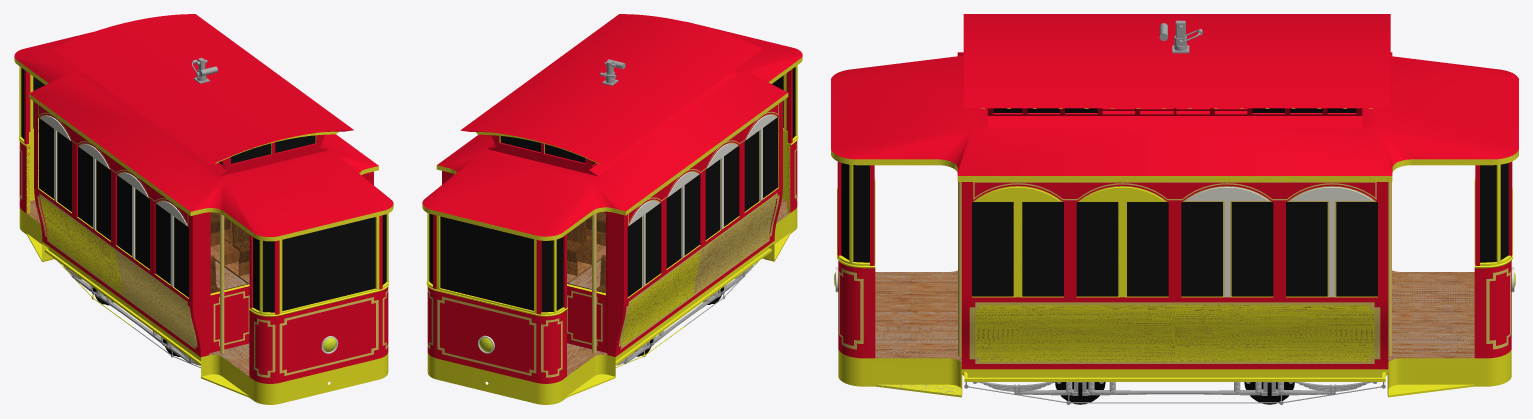
File: Trenvia.glb
3 views of the same model, side by side, from view 1: azimuth 30°, elevation 25°; view 2: azimuth 150°, elevation 25°; view 3: azimuth 270°, elevation 25° (orthographic). The views are drawn at different scales.
Parts seen in each view (by area): view 1: group_5, instance_212, instance_8.002, instance_211, instance_210, instance_0.002, instance_1, instance_0, instance_218.012, instance_7.013, instance_4.013, group_6 (+47 smaller); view 2: group_5, instance_211, instance_9.002, instance_212, instance_213, instance_1.002, instance_0, instance_1, instance_220.012, instance_5.013, instance_6.013, group_6 (+45 smaller); view 3: group_5, instance_210, instance_213, group_12.003, instance_2, instance_3, instance_212, instance_211, instance_2.002, instance_3.002, group_6, instance_204.013 (+45 smaller).
Boxes of the visible parts, left/top/right/bottom form: group_5: left=52, top=14, right=353, bottom=164; instance_212: left=110, top=126, right=331, bottom=236; instance_8.002: left=282, top=217, right=375, bottom=310; instance_211: left=14, top=36, right=147, bottom=152; instance_210: left=274, top=134, right=393, bottom=223; instance_0.002: left=113, top=212, right=249, bottom=356; instance_1: left=40, top=196, right=122, bottom=294; instance_0: left=115, top=251, right=195, bottom=346; instance_218.012: left=201, top=357, right=329, bottom=404; instance_7.013: left=282, top=310, right=329, bottom=373; instance_4.013: left=329, top=300, right=375, bottom=362; group_6: left=14, top=56, right=393, bottom=241; group_5: left=460, top=14, right=762, bottom=165; instance_211: left=484, top=125, right=706, bottom=236; instance_9.002: left=440, top=216, right=533, bottom=310; instance_212: left=668, top=35, right=802, bottom=151; instance_213: left=422, top=134, right=542, bottom=222; instance_1.002: left=567, top=211, right=703, bottom=356; instance_0: left=693, top=196, right=776, bottom=293; instance_1: left=621, top=251, right=700, bottom=346; instance_220.012: left=487, top=357, right=615, bottom=404; instance_5.013: left=487, top=310, right=533, bottom=372; instance_6.013: left=440, top=300, right=486, bottom=362; group_6: left=422, top=56, right=802, bottom=240; group_5: left=963, top=14, right=1390, bottom=108; instance_210: left=831, top=92, right=1174, bottom=175; instance_213: left=1175, top=93, right=1518, bottom=175; group_12.003: left=875, top=270, right=1474, bottom=362; instance_2: left=1175, top=305, right=1374, bottom=361; instance_3: left=975, top=305, right=1174, bottom=361; instance_212: left=831, top=52, right=963, bottom=114; instance_211: left=1390, top=52, right=1518, bottom=114; instance_2.002: left=1175, top=182, right=1388, bottom=369; instance_3.002: left=961, top=182, right=1174, bottom=369; group_6: left=831, top=150, right=1518, bottom=181; instance_204.013: left=1231, top=202, right=1273, bottom=296.
Size of the model in its own units: 135 by 173 by 318.
12 materials, 5 textured.
